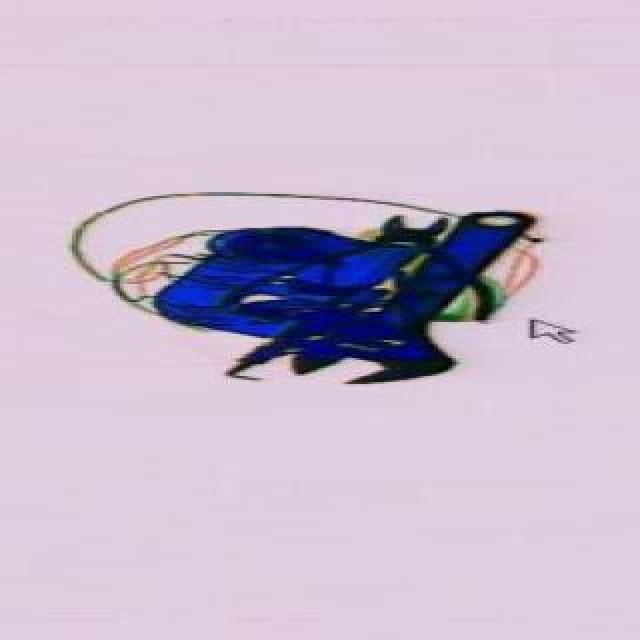scissors: (280, 156, 548, 438)
wrench: (212, 176, 508, 356)
